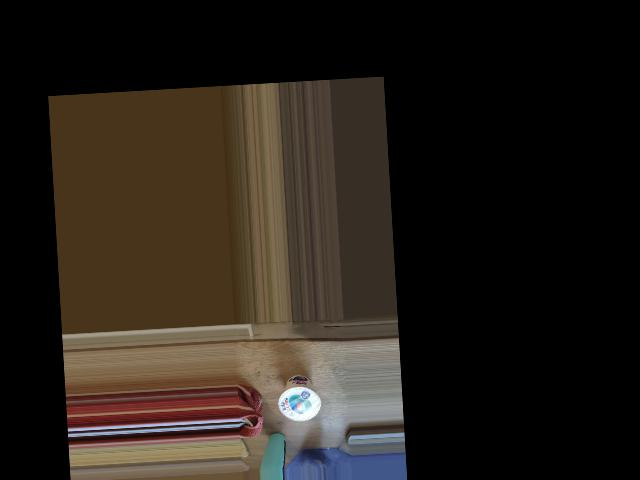cotage: (279, 372, 319, 424)
